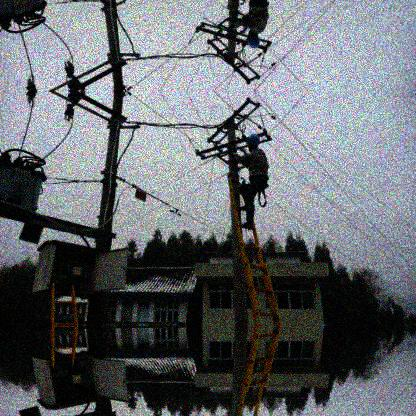helmet: (246, 130, 261, 148)
